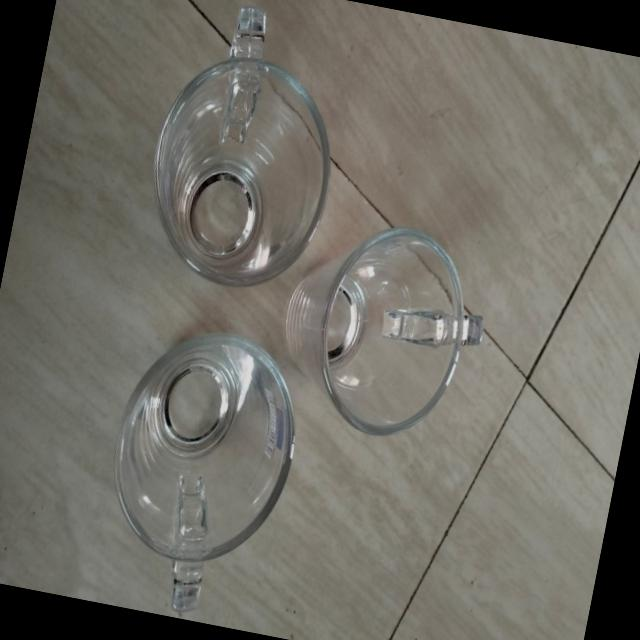glass-VX4N: (133, 0, 359, 298), (86, 328, 310, 624), (266, 206, 502, 455)
